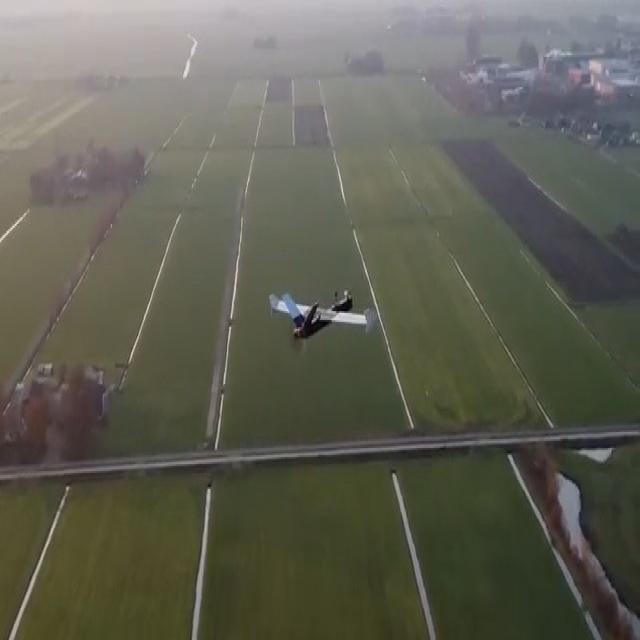drones: (262, 277, 367, 349)
